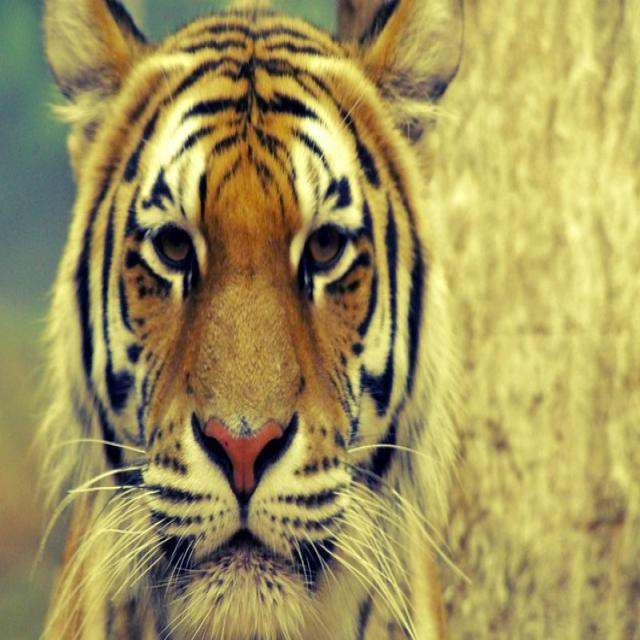Tiger: (37, 1, 468, 638)
